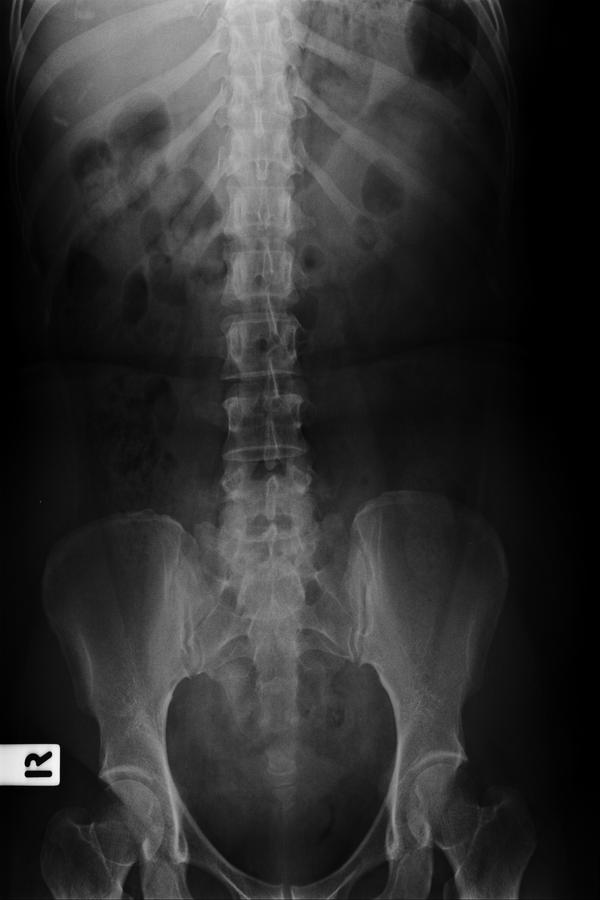lumbar scoliosis: (211, 211, 319, 596)
